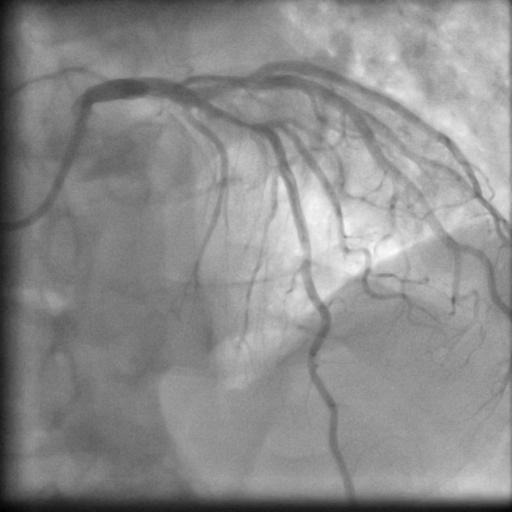Stenosis: (216, 105, 260, 131)
